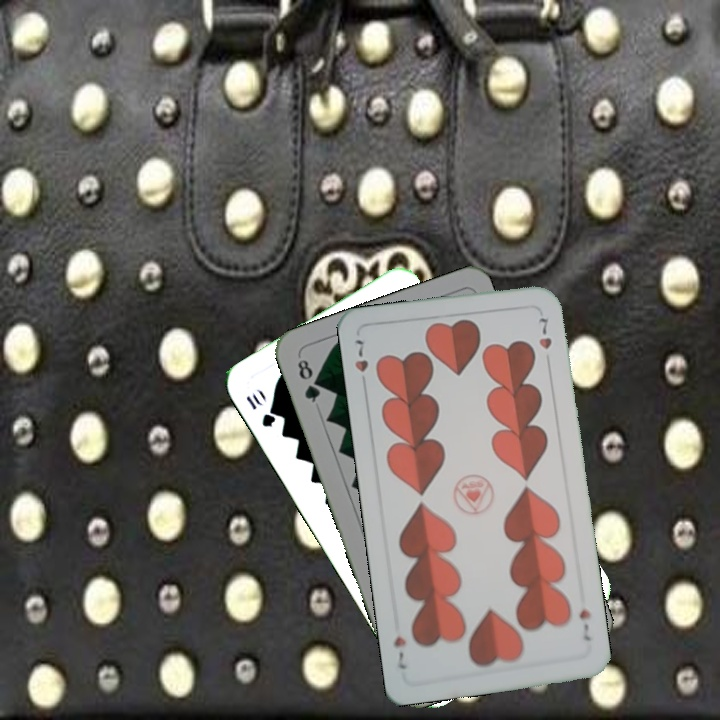G10: (241, 388, 279, 430)
G8: (293, 355, 323, 406)
H7: (351, 335, 371, 375), (575, 605, 593, 643)
